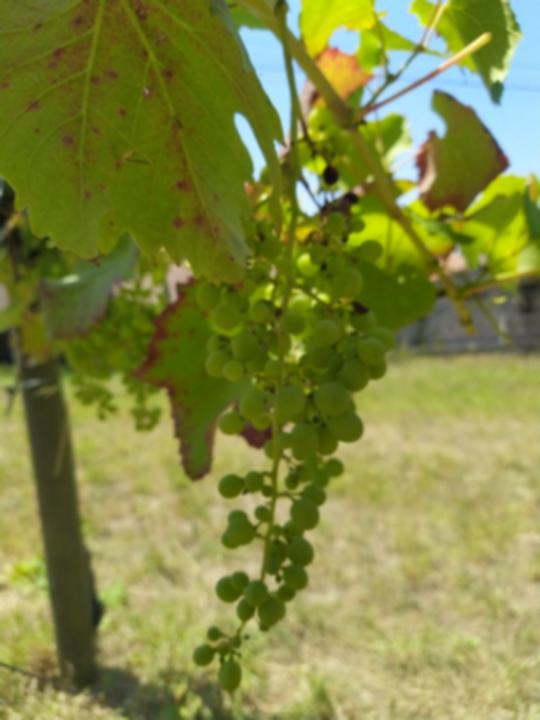grape: (193, 207, 395, 693)
